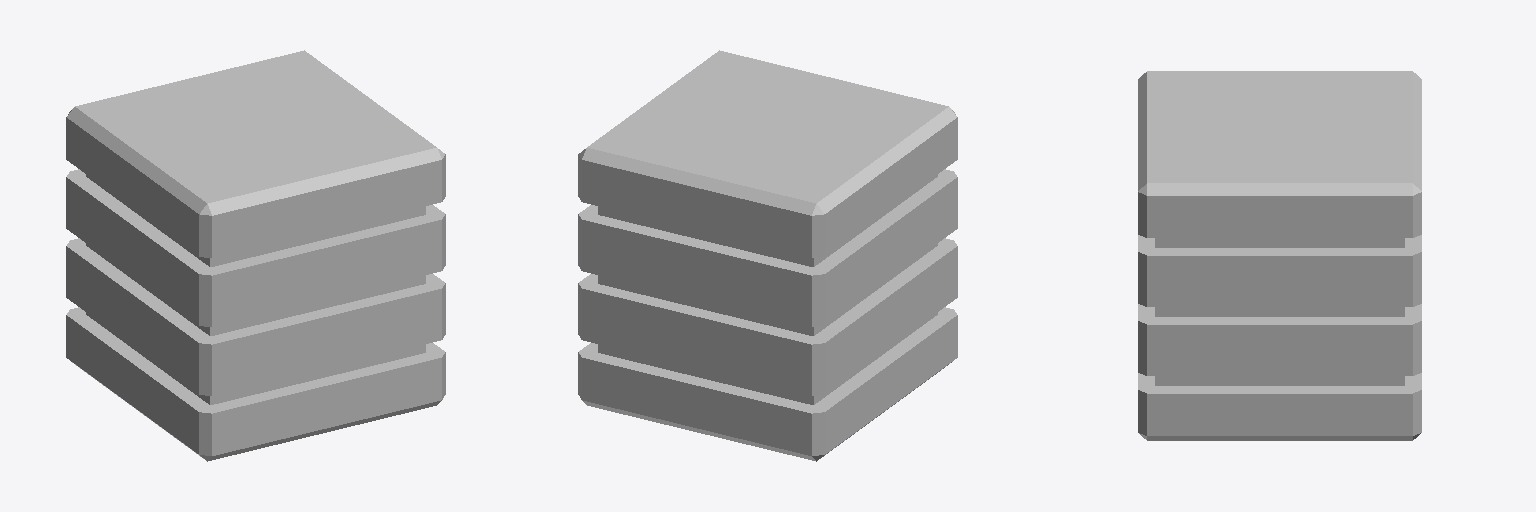
The model's file is block.obj.
3 views of the same model, side by side, from view 1: azimuth 30°, elevation 25°; view 2: azimuth 150°, elevation 25°; view 3: azimuth 270°, elevation 25° (orthographic).
Visible parts, largest first — view 1: BlockBrick__BodyMT; view 2: BlockBrick__BodyMT; view 3: BlockBrick__BodyMT.
Boxes of the visible parts, box(x1,y1,x2,y2) form: BlockBrick__BodyMT: box(66, 50, 445, 461); BlockBrick__BodyMT: box(578, 50, 957, 461); BlockBrick__BodyMT: box(1138, 71, 1421, 440).
Size of the model in its own units: 7.54 by 7.54 by 7.54.